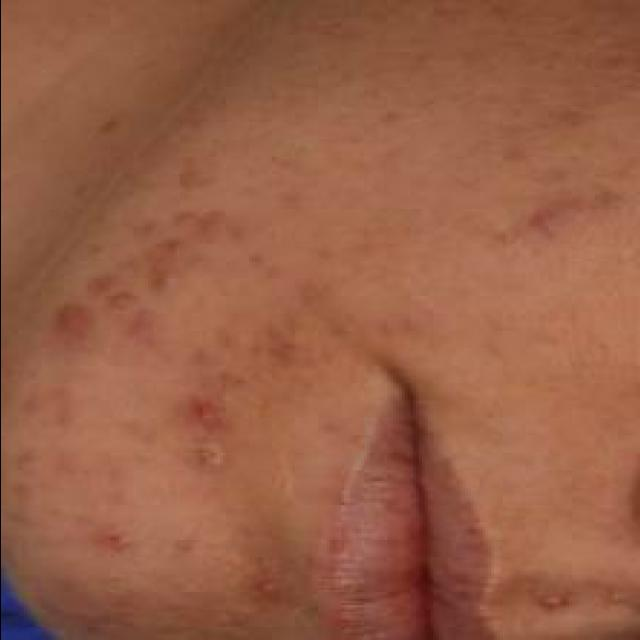Acne: (52, 302, 100, 340), (186, 395, 228, 437), (96, 526, 134, 560), (536, 588, 572, 620), (529, 208, 565, 238)
